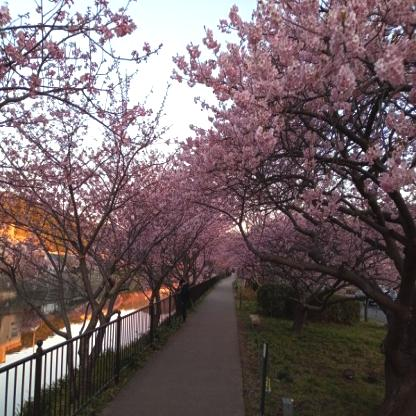KawazuSakura: (184, 0, 415, 309), (0, 0, 151, 298), (91, 153, 243, 283)
